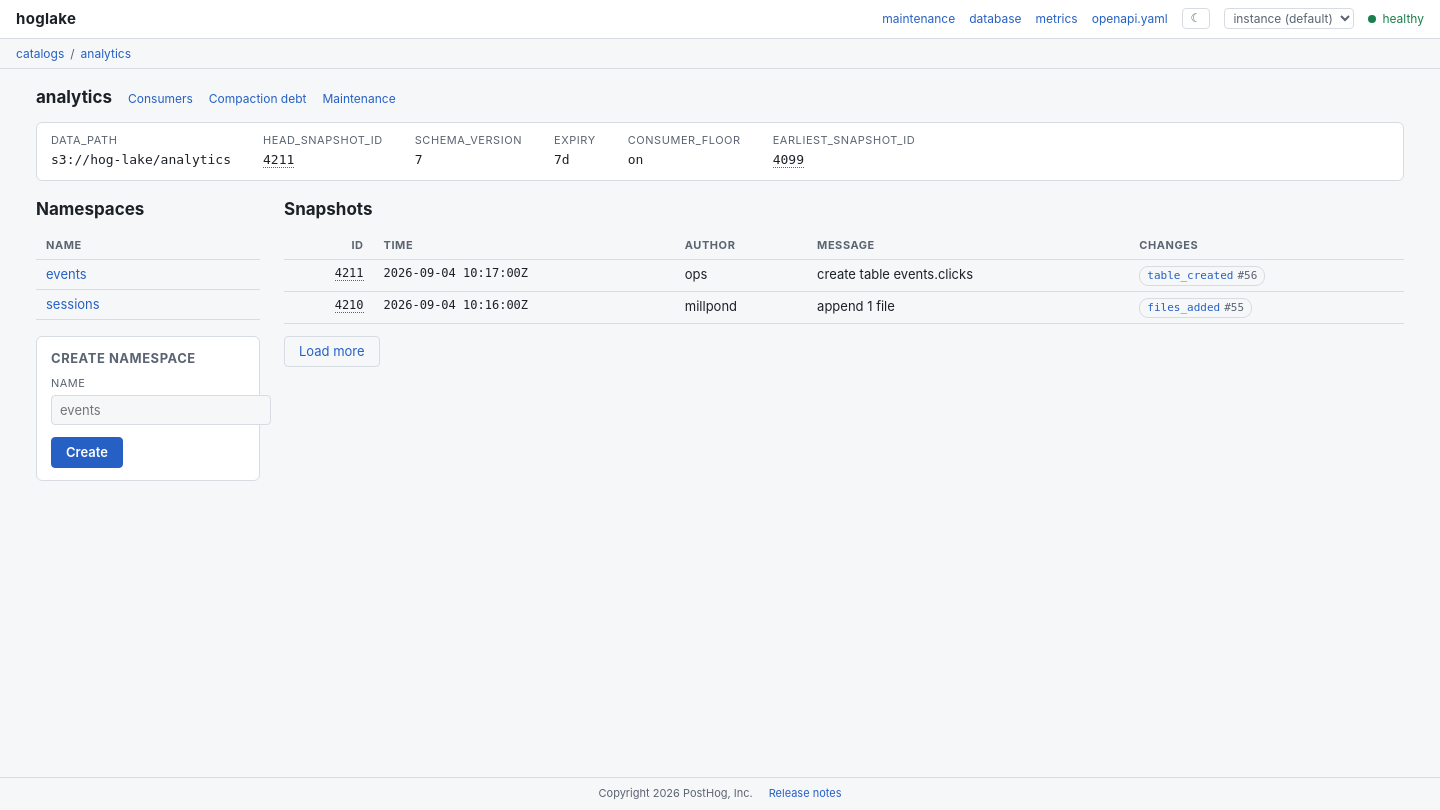
it: CatalogPage › surfaces a server 422 inline if an invalid name slips through
Expected: the link "events" is shown, [46,266,87,282]
In the field labelled "name": (161, 410) [51,395,271,425], type "valid_name"
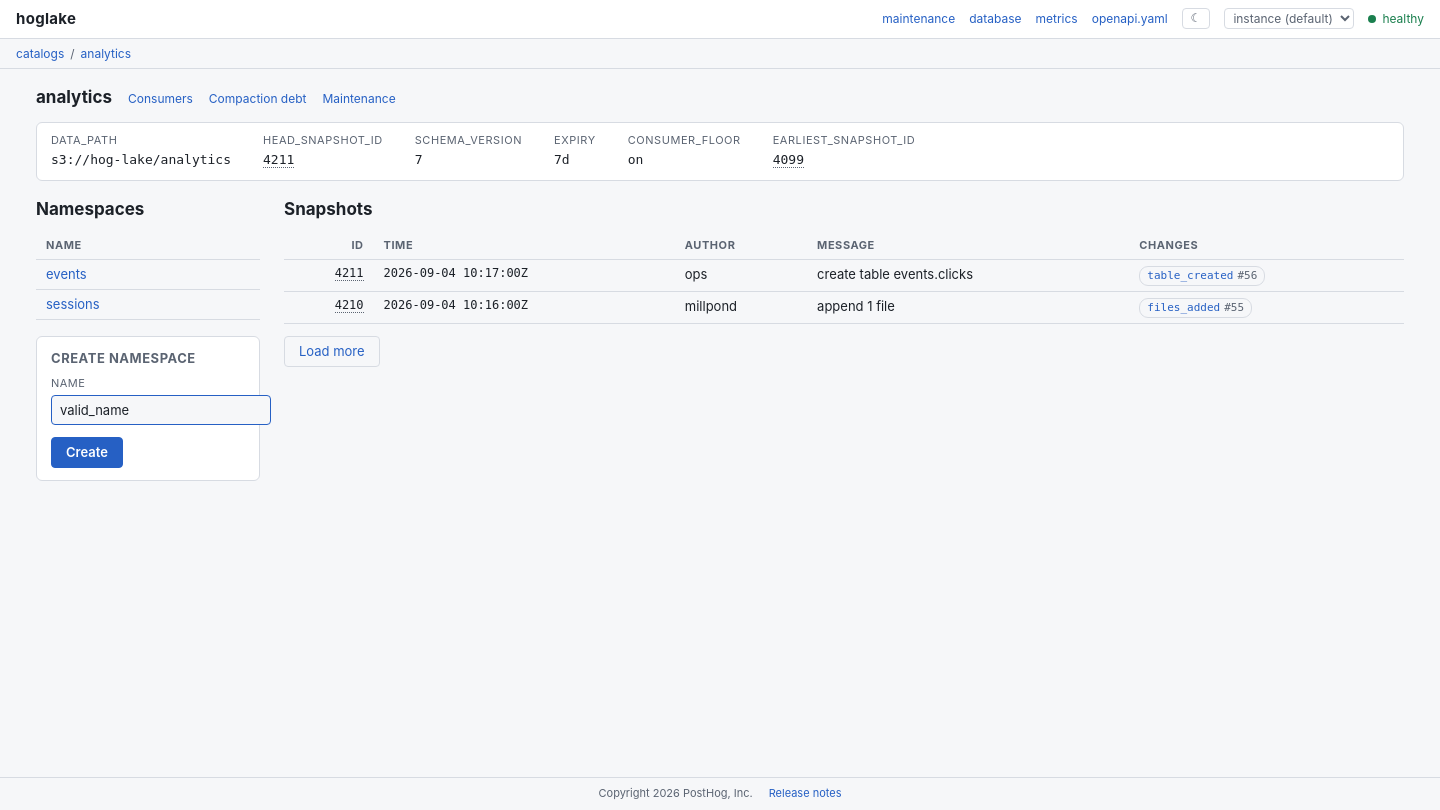
Click the button "Create": (87, 453) [51,438,123,468]
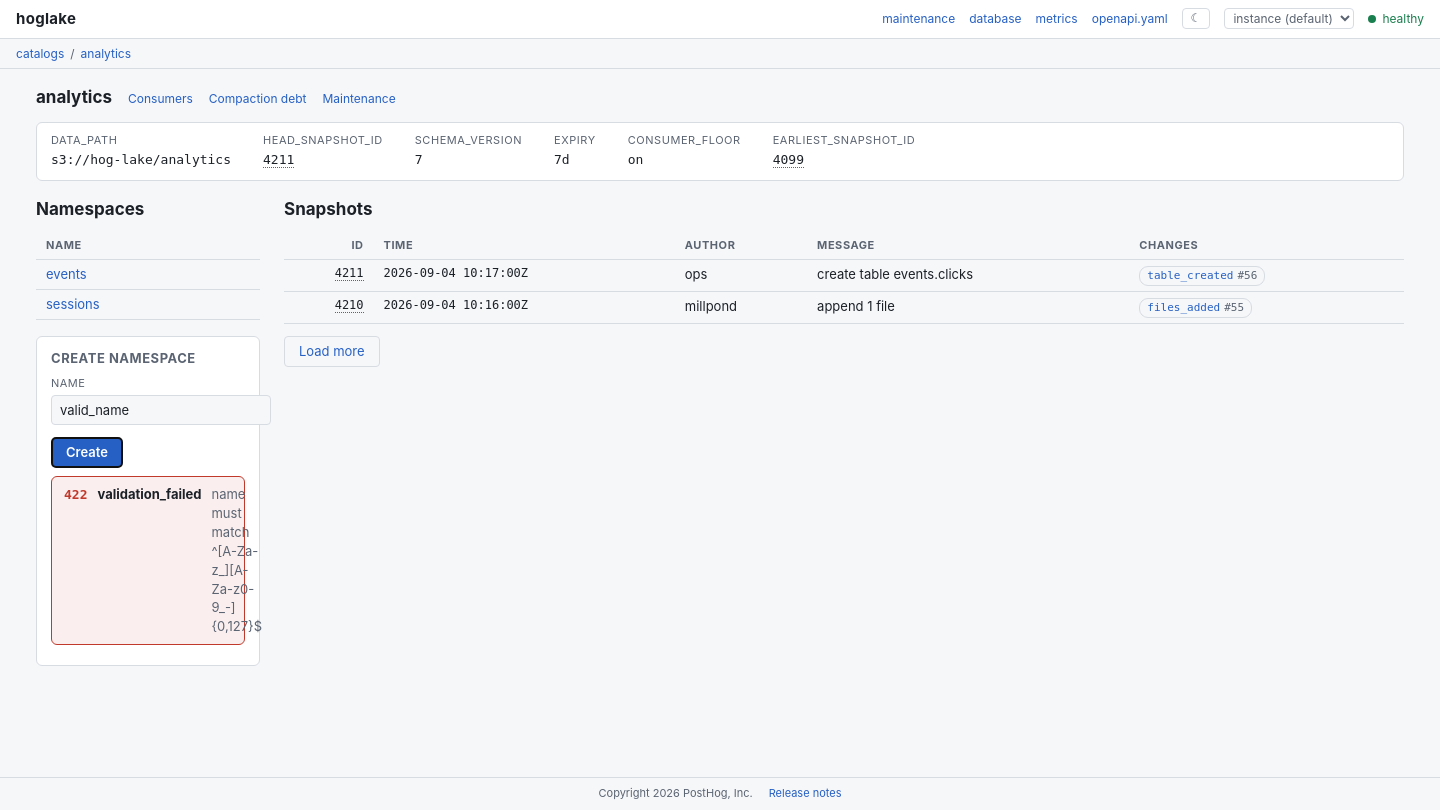
Expected: the message shows "422", [64,487,88,502]
Expected: the message shows "validation_failed", [98,486,202,502]
Expected: the message shows "name must match ^[A-Za-z_][A-Za-z0-9_-]{0,127}$", [212,486,262,634]
